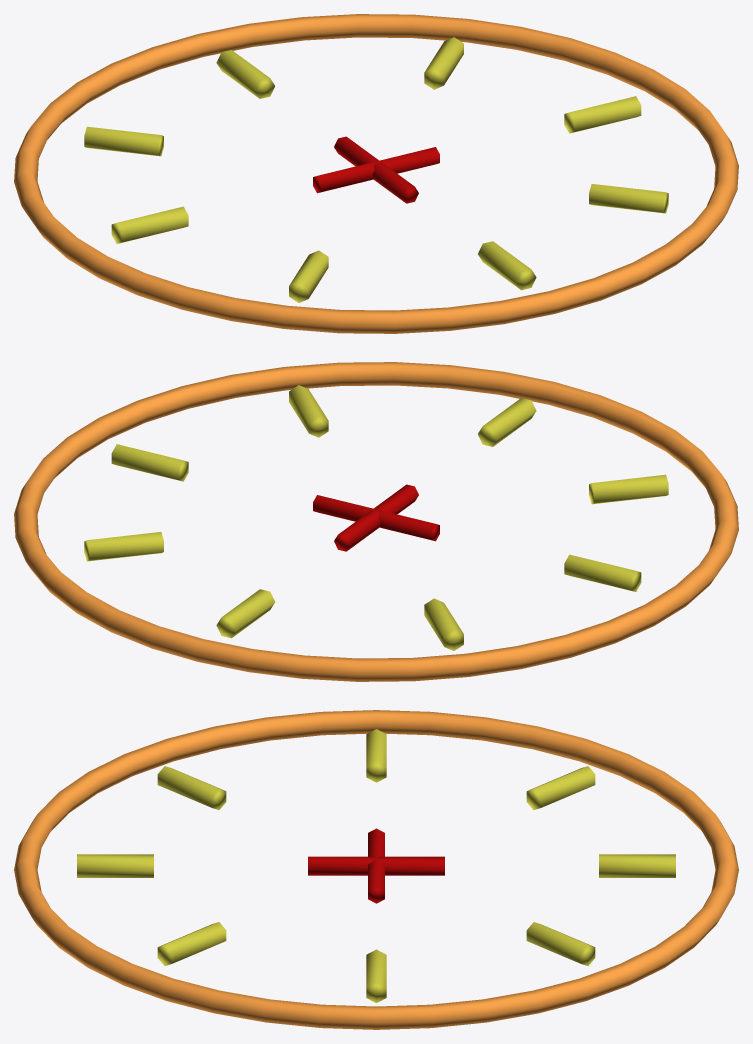
File: Telegraph.glb
3 views of the same model, one above another, from view 1: azimuth 30°, elevation 25°; view 2: azimuth 150°, elevation 25°; view 3: azimuth 270°, elevation 25° (orthographic).
Visible parts, largest first — view 1: Body, Segments, Centre; view 2: Body, Segments, Centre; view 3: Body, Segments, Centre.
Boxes of the visible parts, x1,y1,x2,y2 form: Body: (14,14,738,333); Segments: (84,37,668,302); Centre: (313,136,439,203); Body: (14,362,738,681); Segments: (84,385,668,650); Centre: (313,484,439,551); Body: (14,710,738,1029); Segments: (77,729,675,1002); Centre: (308,828,444,903).
Bounding box in the file's own units: 0.9492 × 0.0343 × 0.9492.
1 material, 1 textured.
